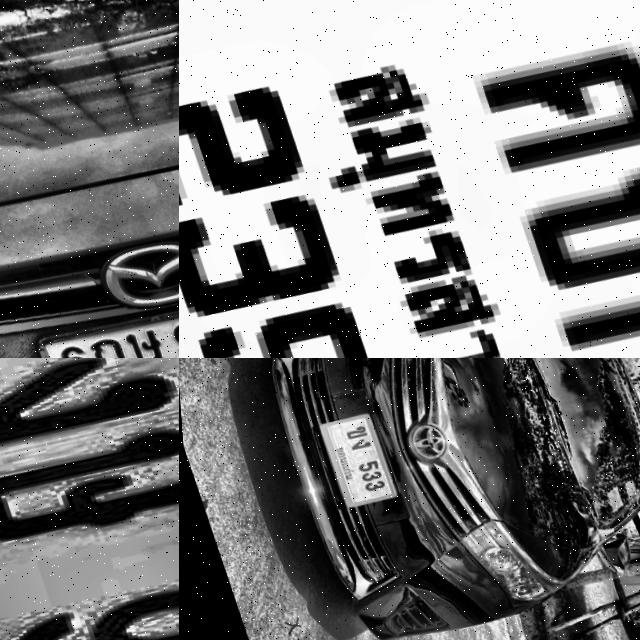license-plate: (179, 0, 640, 358), (0, 358, 179, 640), (0, 80, 68, 325), (308, 404, 397, 512)
